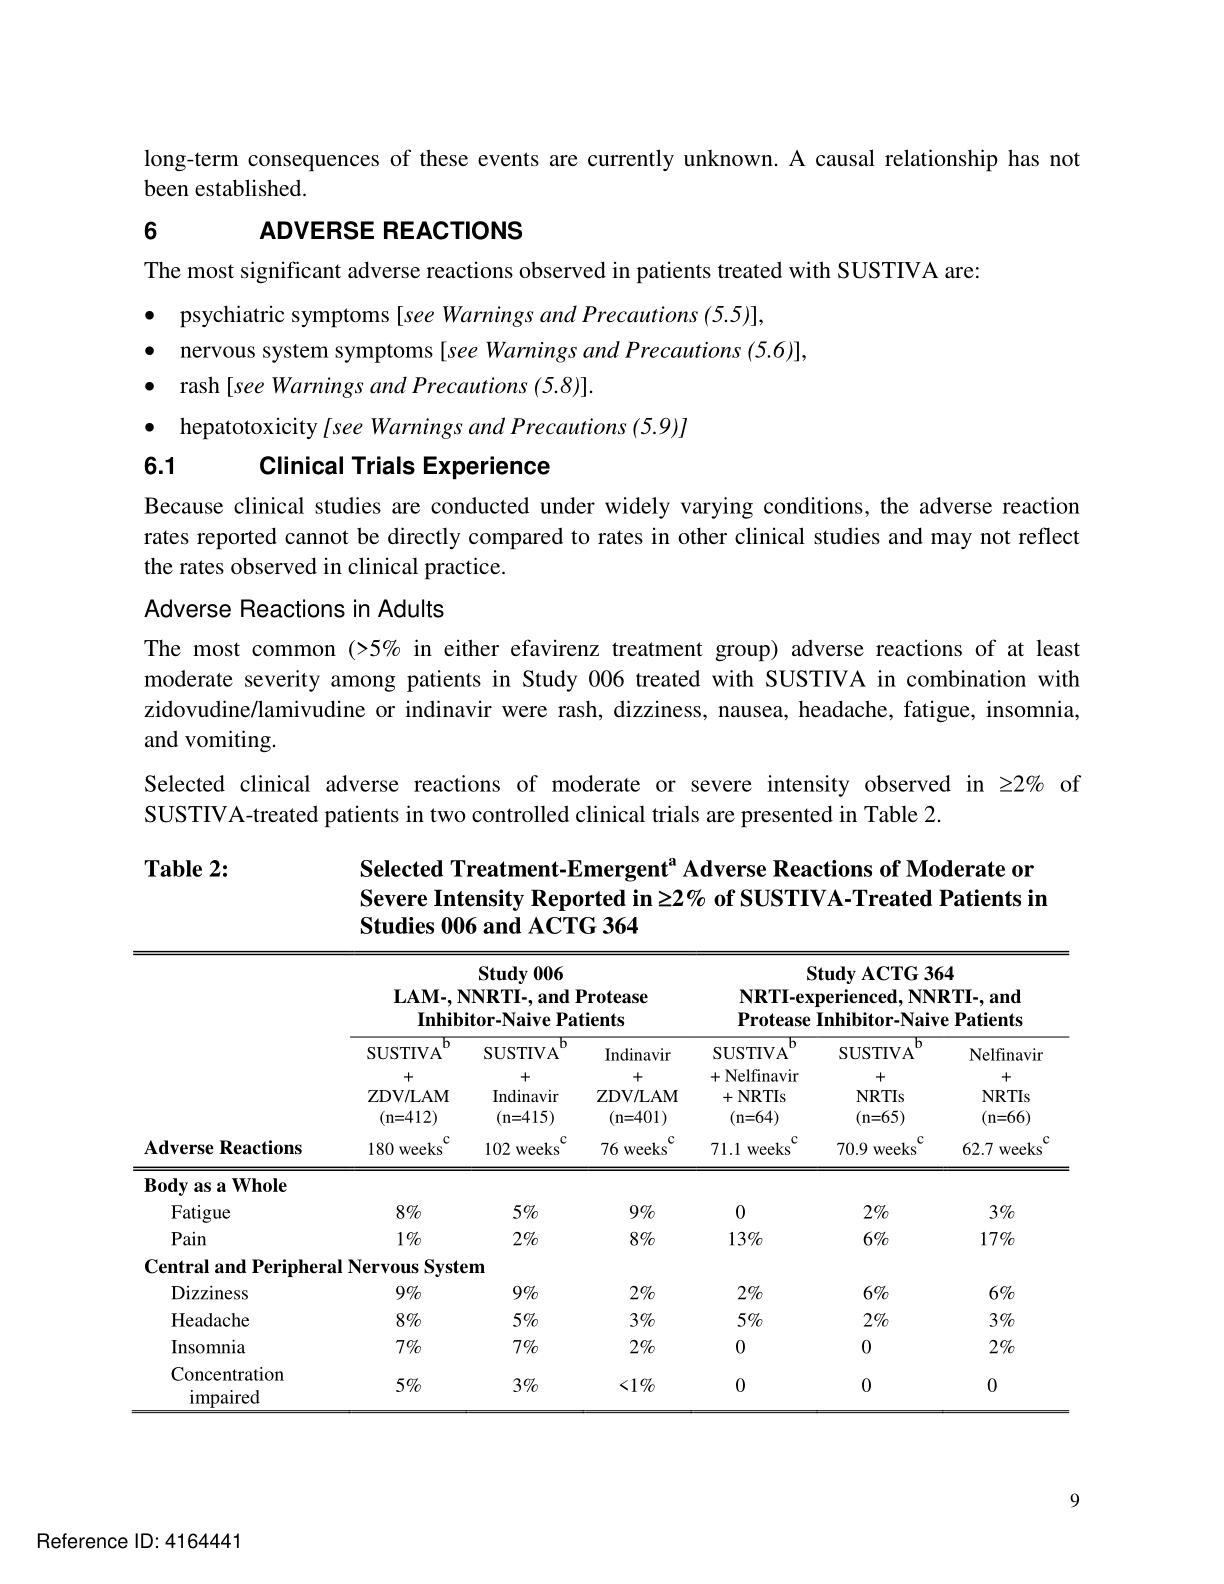partial_lined_merged_cells: (131, 950, 1070, 1414)
